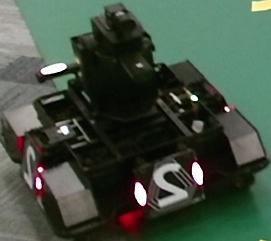armor_2: (135, 162, 204, 205)
